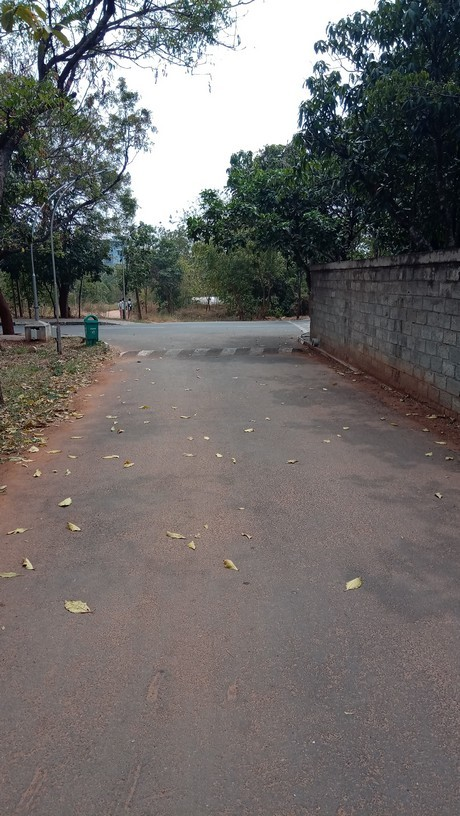bump: (101, 342, 318, 362)
